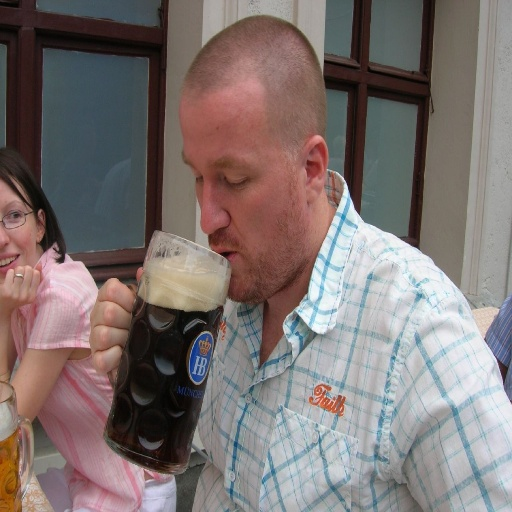hand: (81, 276, 126, 372), (0, 263, 40, 311)
